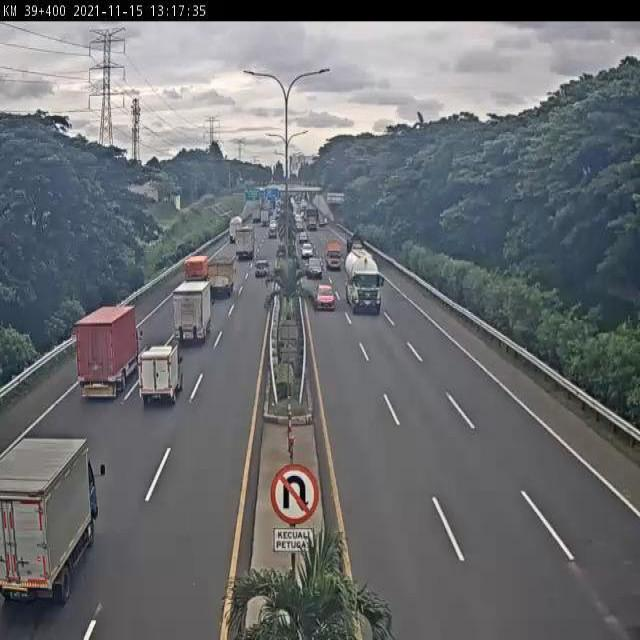car: (313, 284, 337, 313)
truck-l-: (348, 245, 388, 312)
truck-m-: (0, 438, 99, 602), (75, 304, 145, 401), (174, 280, 215, 344), (207, 254, 238, 294)
truck-s-: (136, 344, 184, 408)
